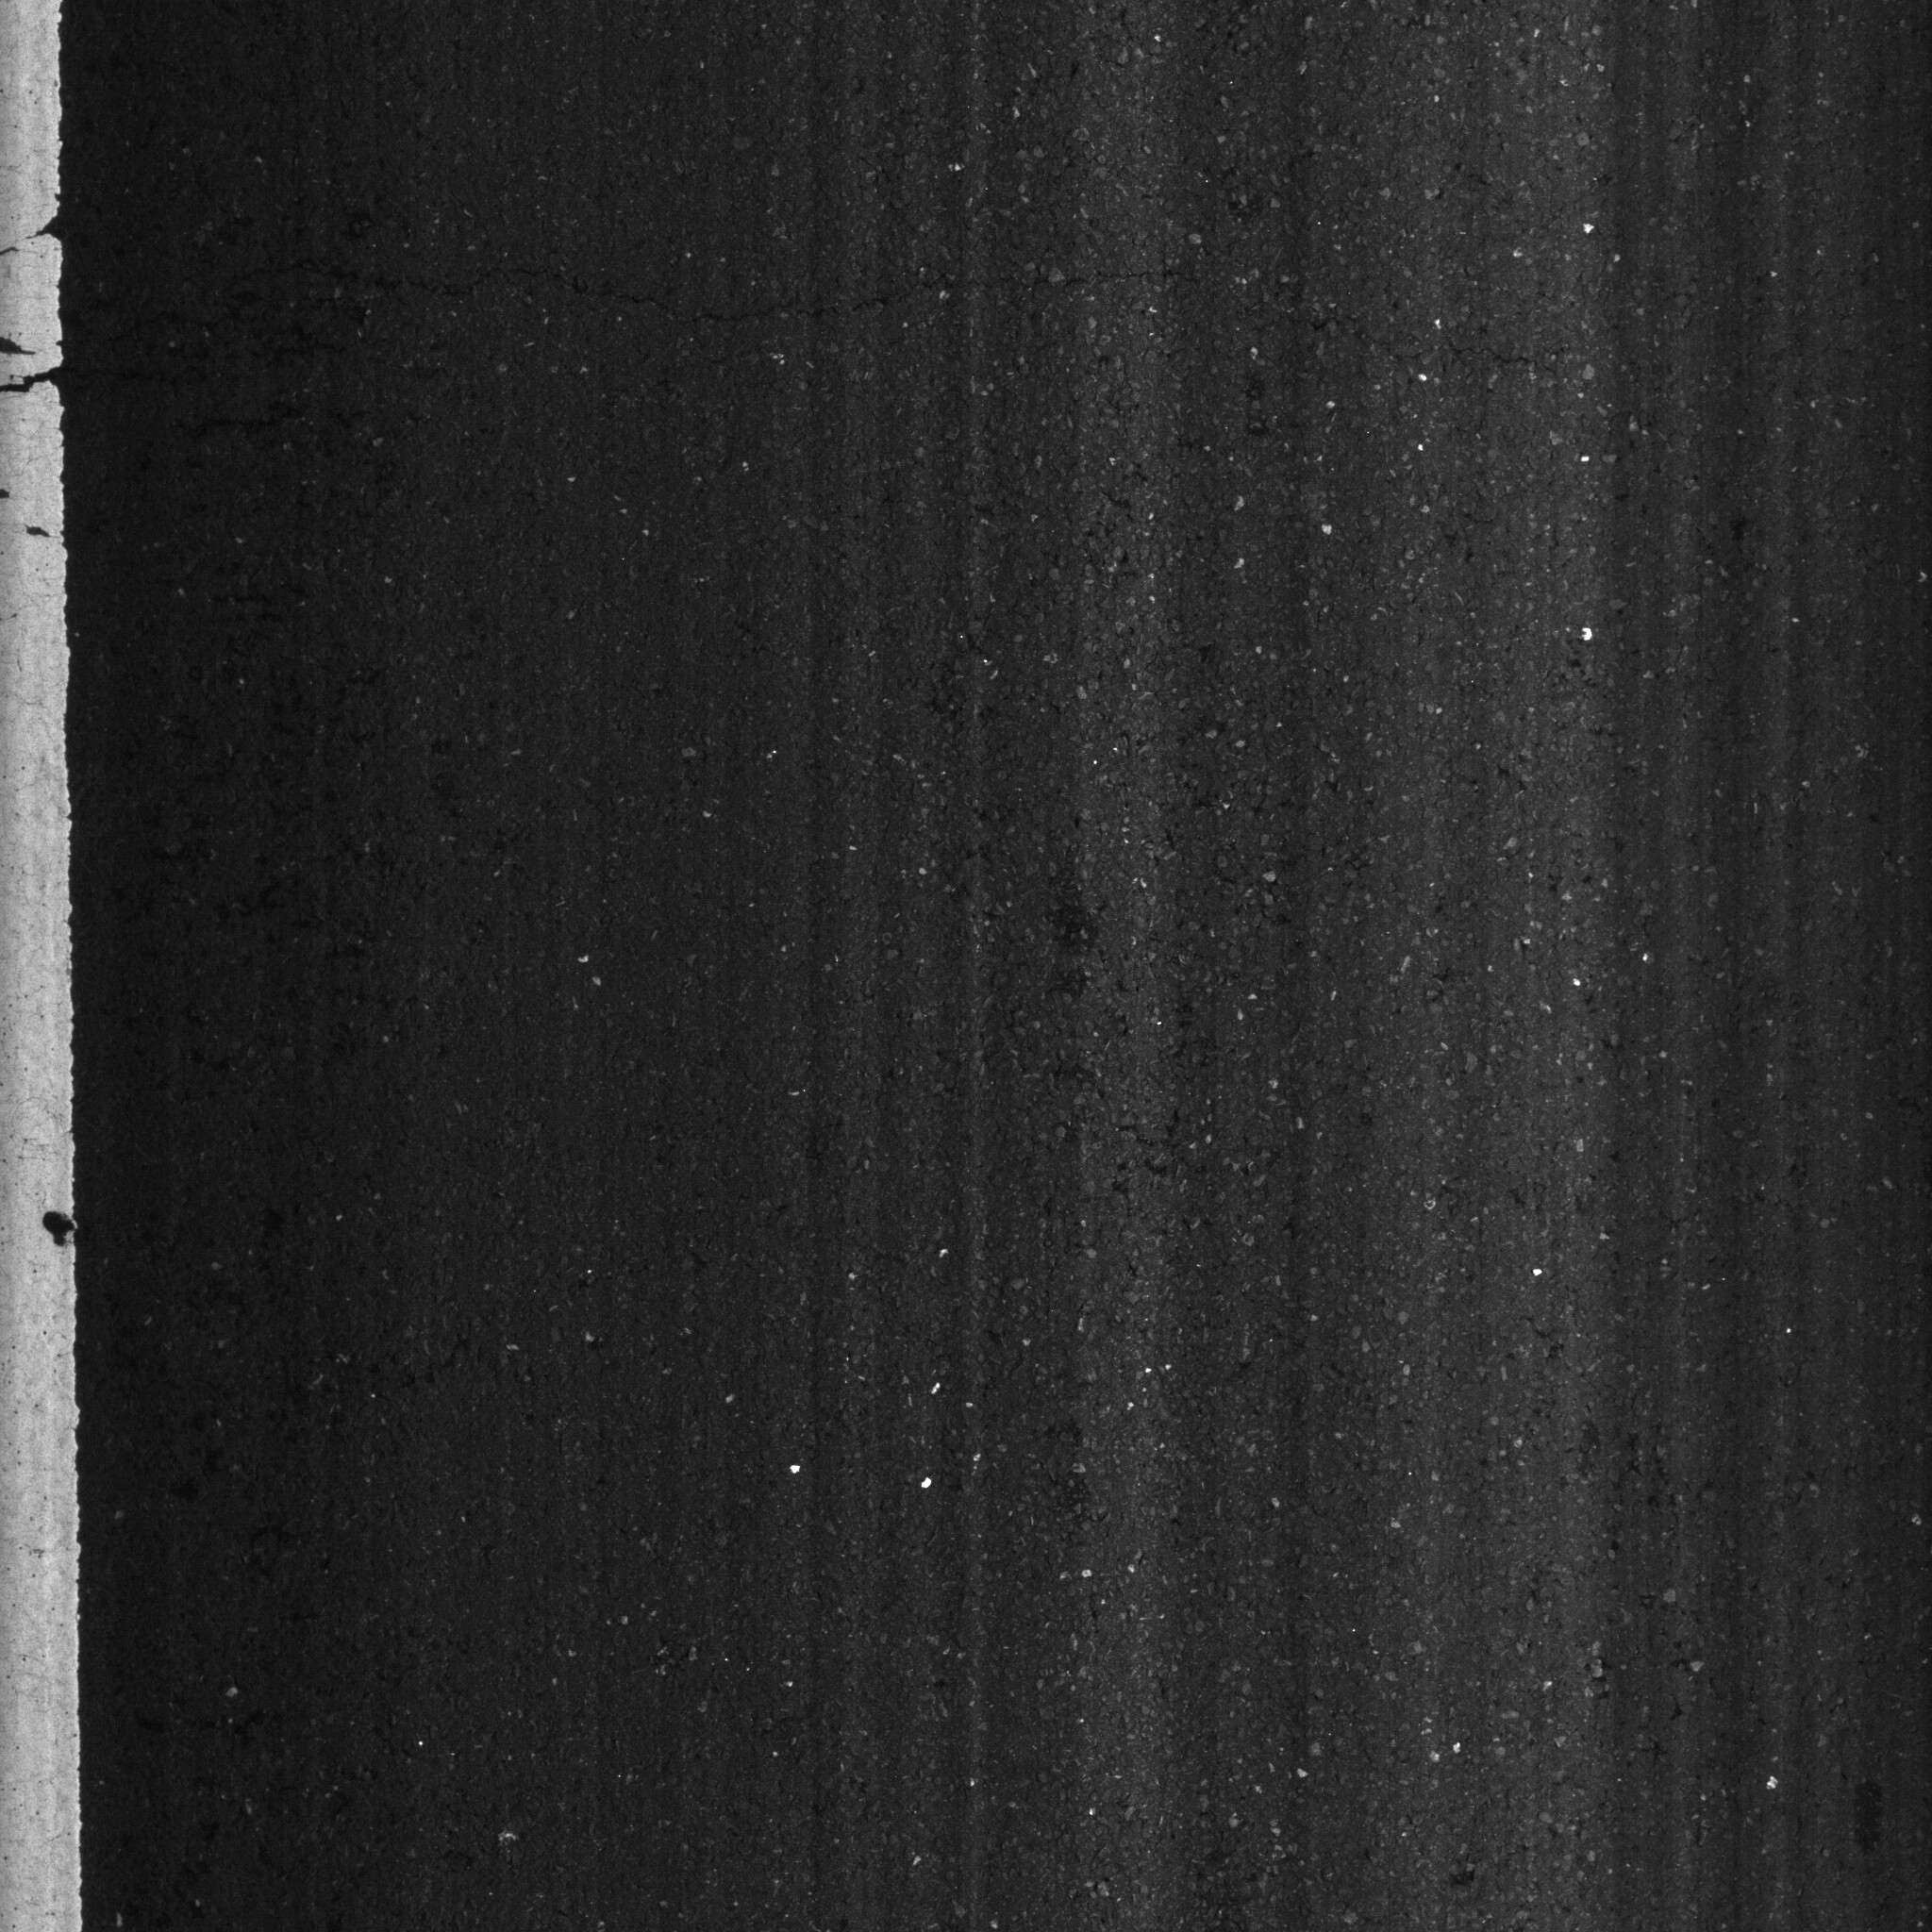transeverse: (67, 242, 1562, 407)
